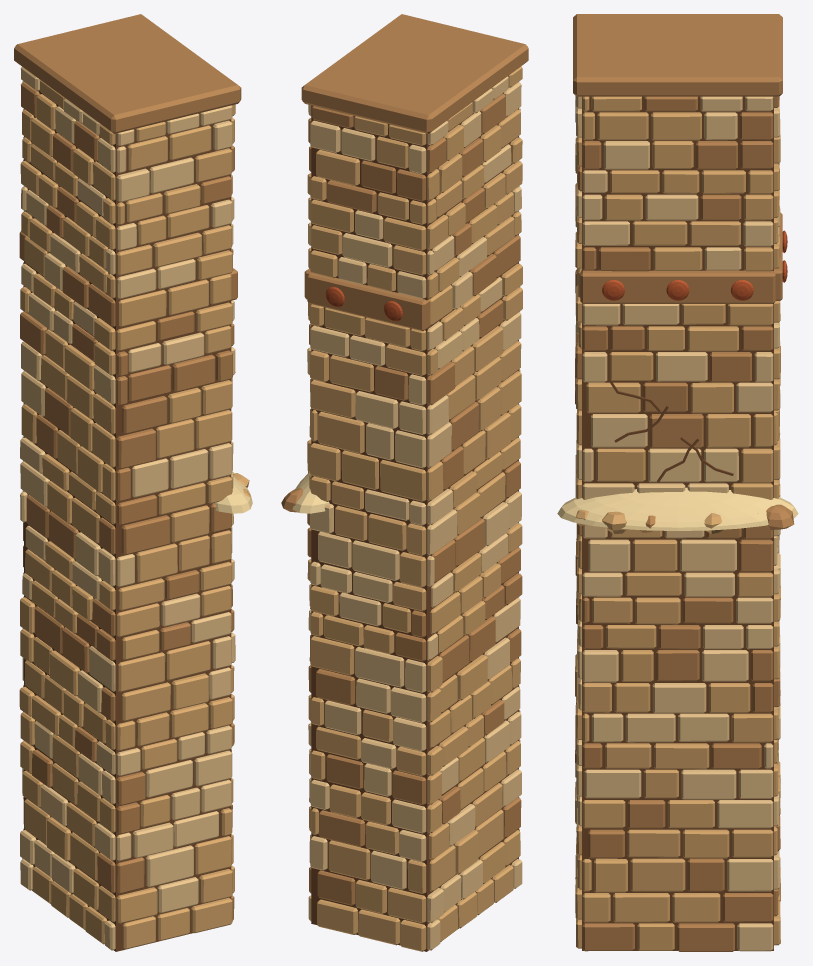
Rendered from BossWall_SunDunes.fbx.
The picture shows the model from 3 angles, left to right: view 1: azimuth 30°, elevation 25°; view 2: azimuth 150°, elevation 25°; view 3: azimuth 270°, elevation 25°; orthographic projection. The views are drawn at different scales.
Visible parts, largest first — view 1: BossWall_SunDunes; view 2: BossWall_SunDunes; view 3: BossWall_SunDunes.
Part boxes in pixels (left/top/right/bottom): BossWall_SunDunes: left=14, top=14, right=252, bottom=951; BossWall_SunDunes: left=281, top=14, right=528, bottom=951; BossWall_SunDunes: left=557, top=14, right=798, bottom=951.
Size of the model in its own units: 392 by 2003 by 500.
